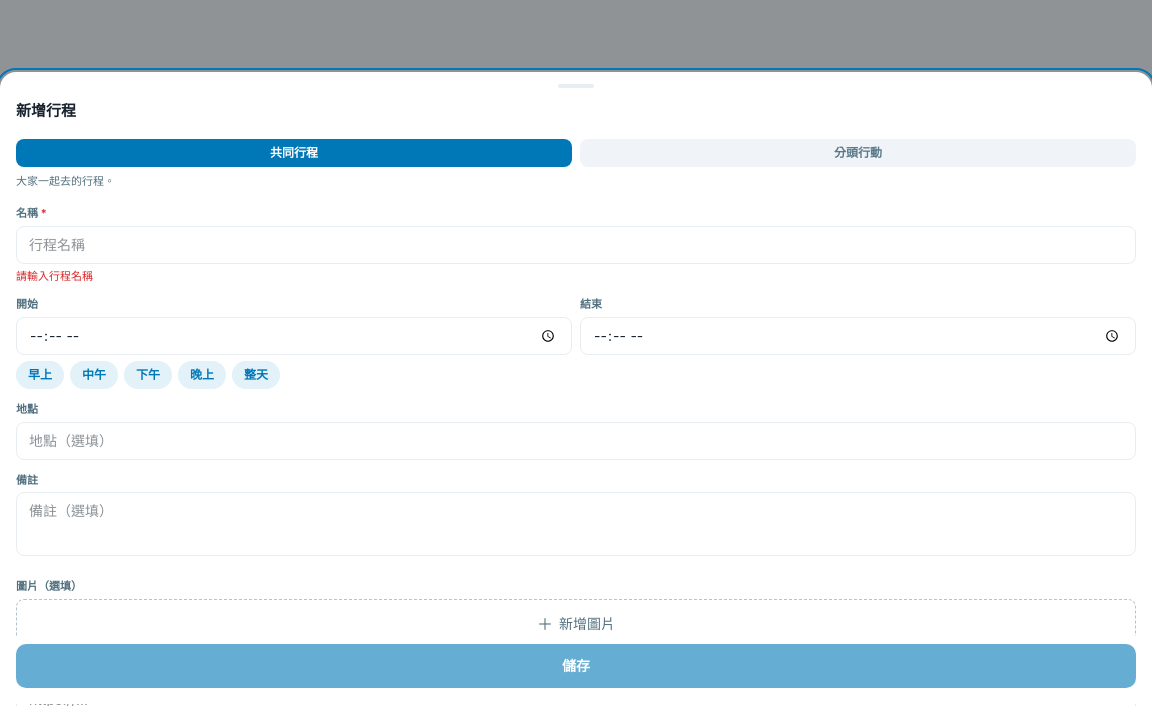
Scenario: EventSheet › switches to fork mode and shows text inputs when no members provided
Click the button "分頭行動" at (858, 152), box [580,138,1136,166]
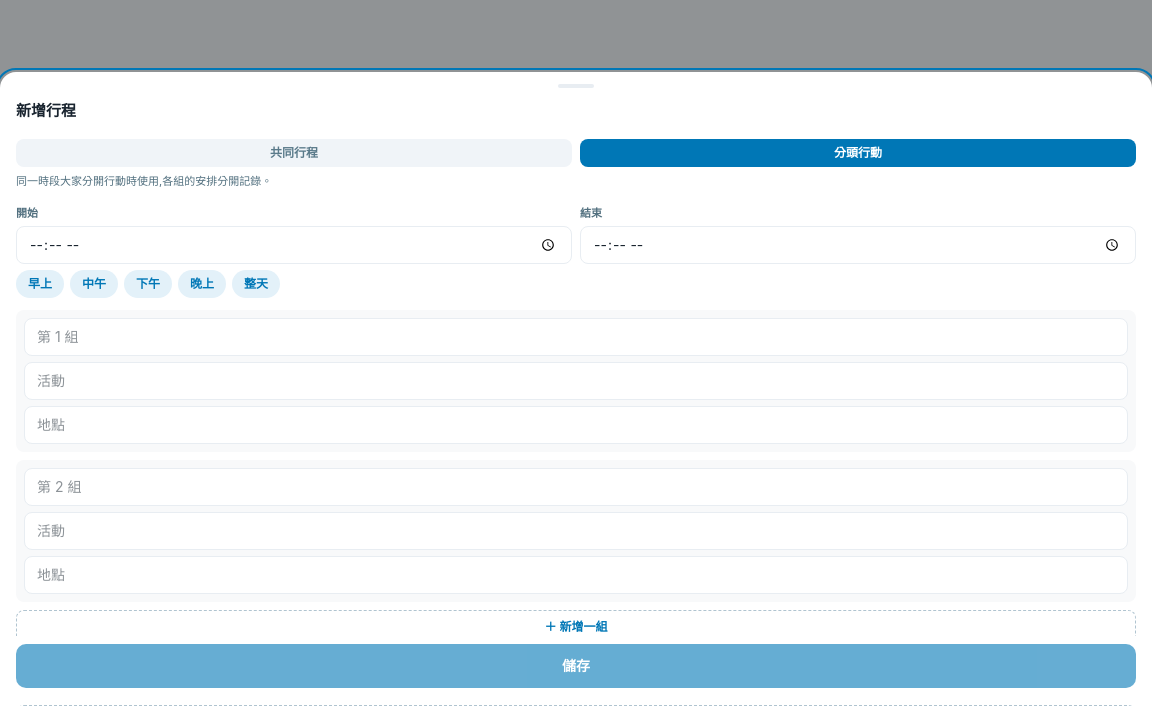
Now the field with placeholder "第 1 組" is shown, box [24,318,1128,356]
Now the field with placeholder "第 2 組" is shown, box [24,468,1128,506]
